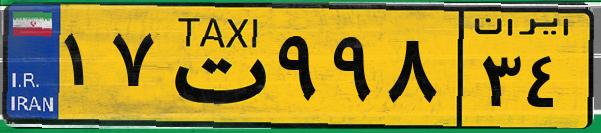1: (57, 26, 110, 100)
3: (475, 38, 525, 113)
4: (525, 38, 570, 115)
7: (110, 28, 158, 98)
8: (385, 28, 445, 110)
9: (270, 28, 330, 110), (330, 28, 385, 110)
ت: (158, 12, 270, 120)
